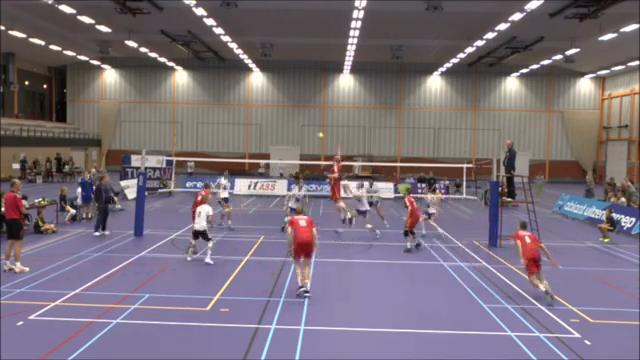attacco: (320, 145, 358, 229)
